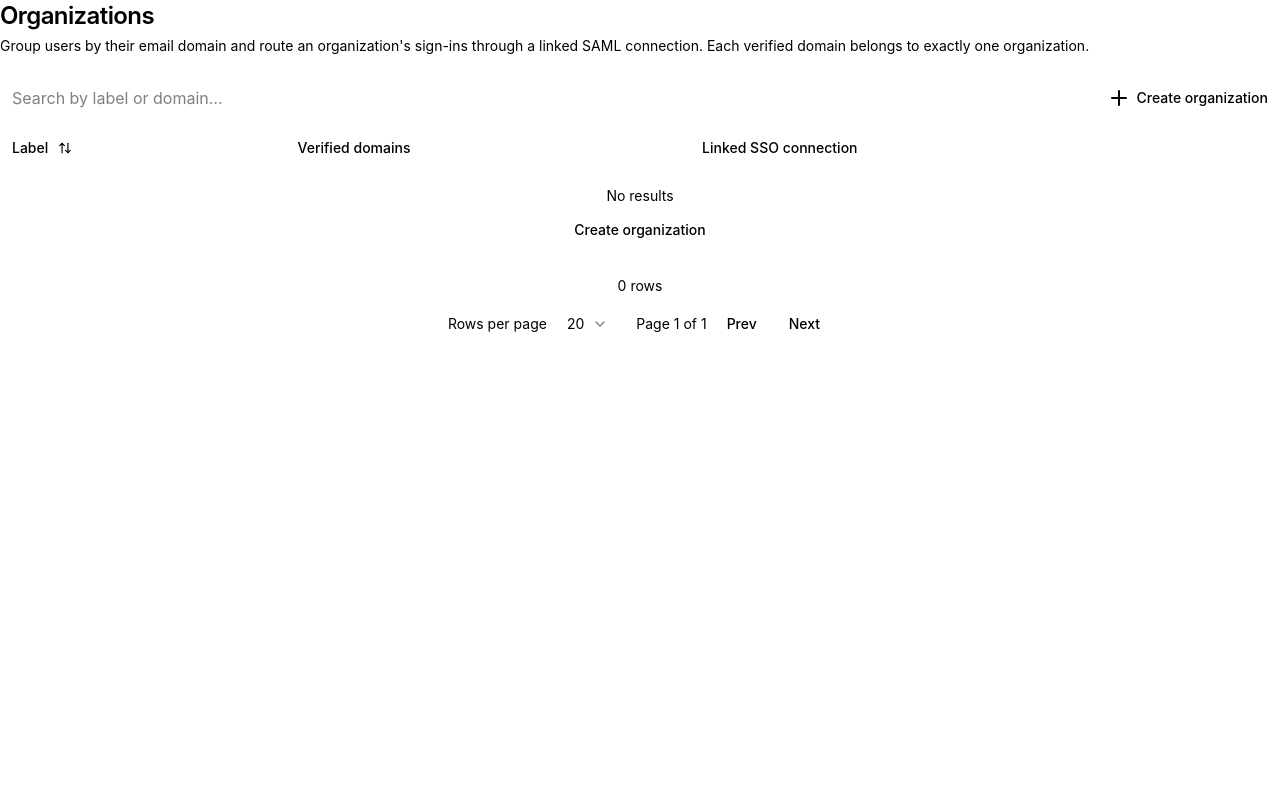
Test: Organizations page (SSO-05/06/07) › has NO Enterprise/license/requires-Ory copy
Click the 1st button "Create organization": (1187, 98) [1095,82,1279,114]
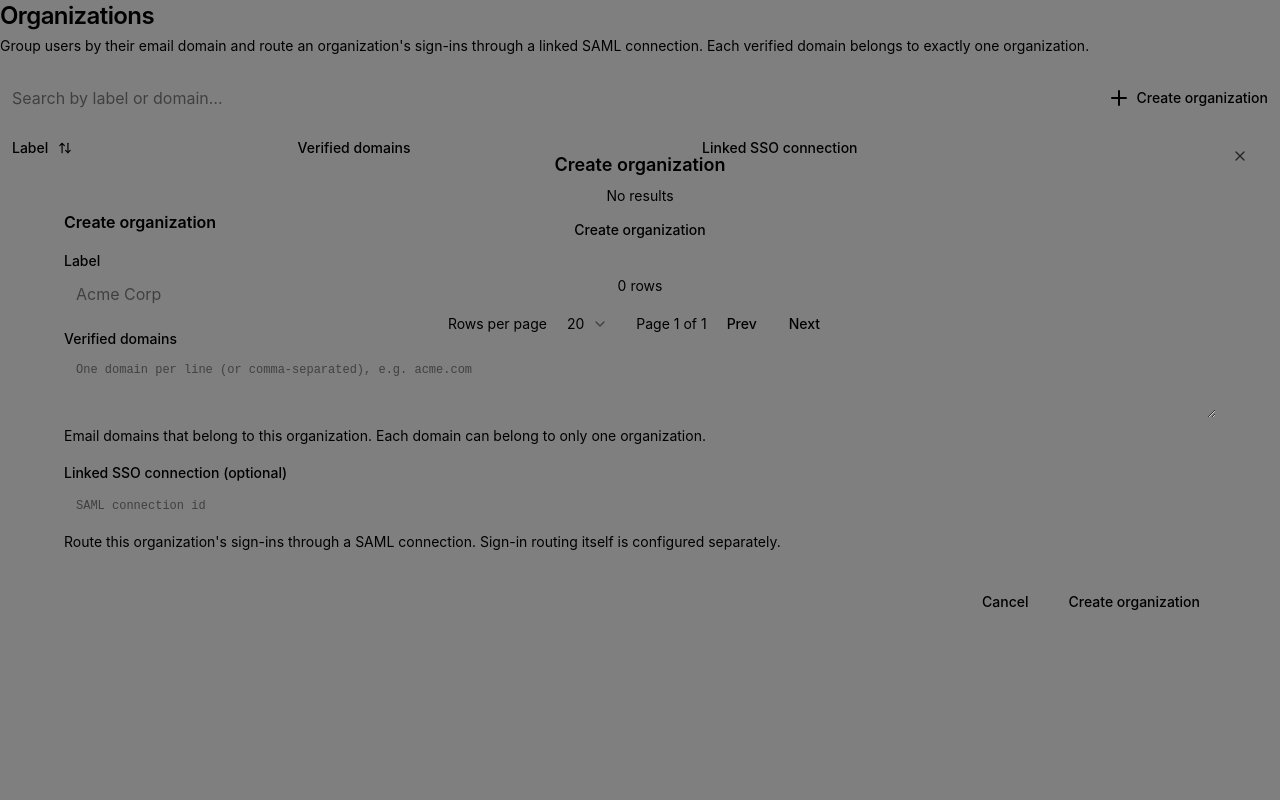
Result: the dialog is shown
